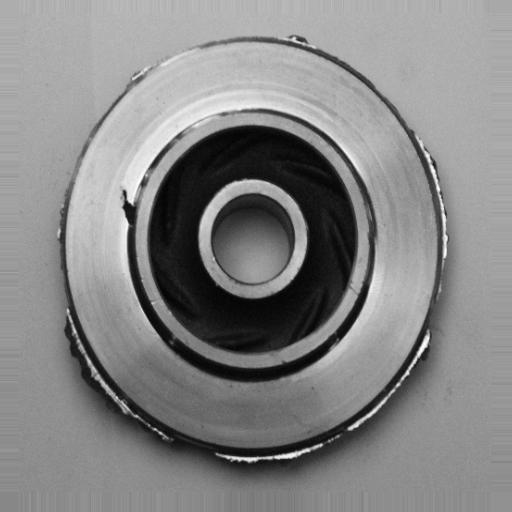casting_with_burr: (55, 30, 454, 472)
crack: (114, 176, 144, 235)
scratch: (183, 104, 245, 136)
